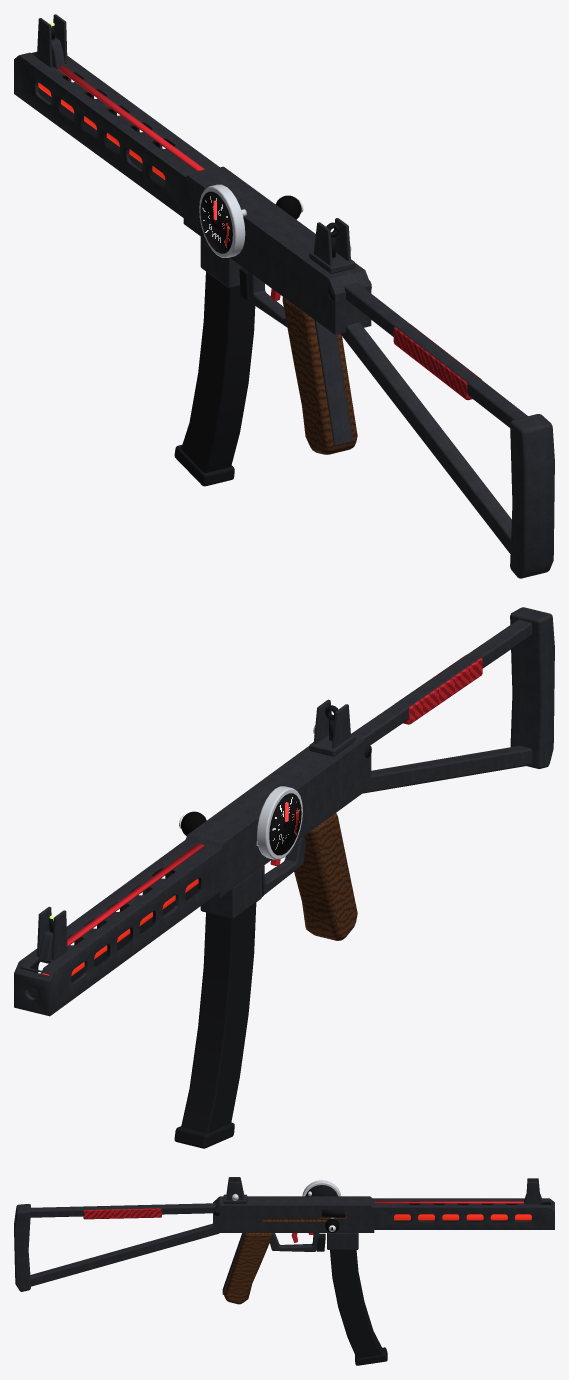
The model's file is w_redline.glb.
3 views of the same model, one above another, from view 1: azimuth 30°, elevation 25°; view 2: azimuth 150°, elevation 25°; view 3: azimuth 270°, elevation 25° (orthographic). The views are drawn at different scales.
Visible parts, largest first — view 1: redline_body_wzA__rl_steel, redline_body_wzB__rl_steel, redline_body_wzB__rl_dark, redline_body_wzA__rl_grip, redline_body_wzN__rl_tape, redline_body_wzN__rl_tach, redline_body_wzN__rl_chrome, redline_body_wzB__rl_red, redline_body_wzA__rl_dark; view 2: redline_body_wzA__rl_steel, redline_body_wzB__rl_steel, redline_body_wzB__rl_dark, redline_body_wzA__rl_grip, redline_body_wzN__rl_tape, redline_body_wzN__rl_tach, redline_body_wzN__rl_chrome, redline_body_wzB__rl_red; view 3: redline_body_wzA__rl_steel, redline_body_wzB__rl_steel, redline_body_wzB__rl_dark, redline_body_wzA__rl_grip, redline_body_wzN__rl_tape, redline_body_wzA__rl_dark, redline_body_wzB__redline_vents, redline_body_wzB__rl_red, redline_body_wzN__rl_chrome.
Part boxes in pixels (left/top/right/bottom): redline_body_wzA__rl_steel: left=183, top=166, right=554, bottom=578; redline_body_wzB__rl_steel: left=14, top=14, right=219, bottom=218; redline_body_wzB__rl_dark: left=32, top=25, right=255, bottom=486; redline_body_wzA__rl_grip: left=282, top=297, right=357, bottom=454; redline_body_wzN__rl_tape: left=393, top=324, right=481, bottom=400; redline_body_wzN__rl_tach: left=200, top=192, right=232, bottom=253; redline_body_wzN__rl_chrome: left=199, top=184, right=351, bottom=257; redline_body_wzB__rl_red: left=58, top=66, right=204, bottom=171; redline_body_wzA__rl_dark: left=203, top=191, right=371, bottom=300; redline_body_wzA__rl_steel: left=185, top=607, right=554, bottom=918; redline_body_wzB__rl_steel: left=14, top=839, right=223, bottom=1016; redline_body_wzB__rl_dark: left=19, top=868, right=256, bottom=1148; redline_body_wzA__rl_grip: left=294, top=813, right=357, bottom=940; redline_body_wzN__rl_tape: left=395, top=655, right=482, bottom=724; redline_body_wzN__rl_tach: left=270, top=794, right=301, bottom=854; redline_body_wzN__rl_chrome: left=256, top=725, right=315, bottom=859; redline_body_wzB__rl_red: left=67, top=843, right=204, bottom=946; redline_body_wzA__rl_steel: left=14, top=1177, right=374, bottom=1294; redline_body_wzB__rl_steel: left=370, top=1178, right=554, bottom=1229; redline_body_wzB__rl_dark: left=330, top=1201, right=552, bottom=1365; redline_body_wzA__rl_grip: left=223, top=1209, right=346, bottom=1304; redline_body_wzN__rl_tape: left=83, top=1208, right=161, bottom=1219; redline_body_wzA__rl_dark: left=214, top=1179, right=345, bottom=1251; redline_body_wzB__redline_vents: left=394, top=1214, right=531, bottom=1220; redline_body_wzB__rl_red: left=375, top=1201, right=523, bottom=1203; redline_body_wzN__rl_chrome: left=232, top=1180, right=340, bottom=1218.
Bounding box in the file's own units: 0.1066 × 0.363 × 0.9747.
Materials: 12 (4 with a texture image).
